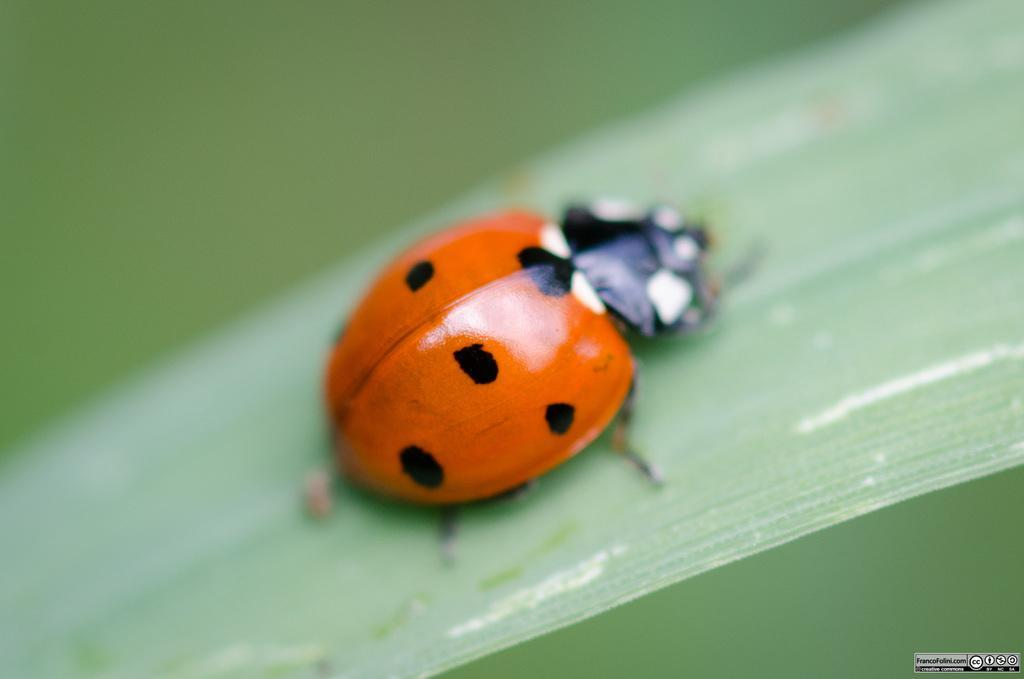ladybug: (325, 189, 727, 569)
